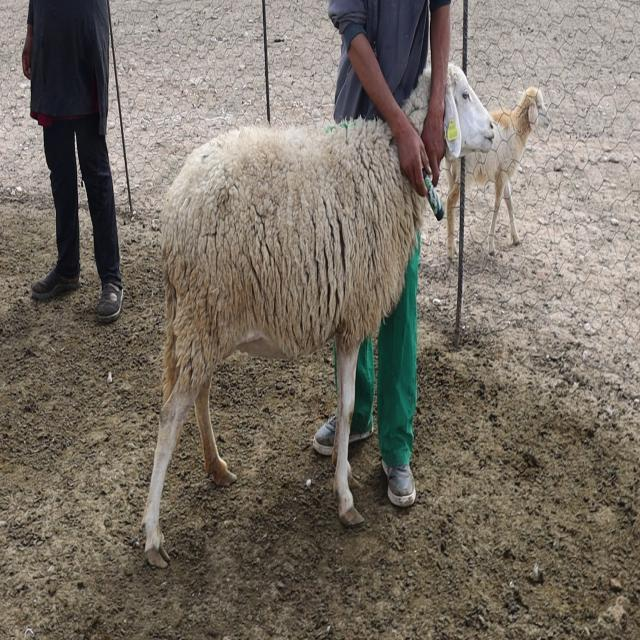Score_4: (142, 119, 427, 567)
